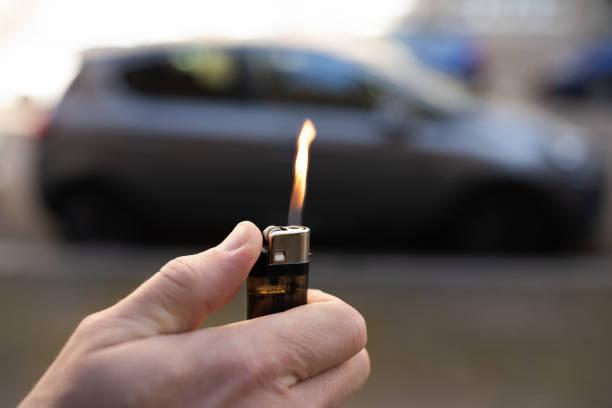Fire: (287, 116, 320, 227)
